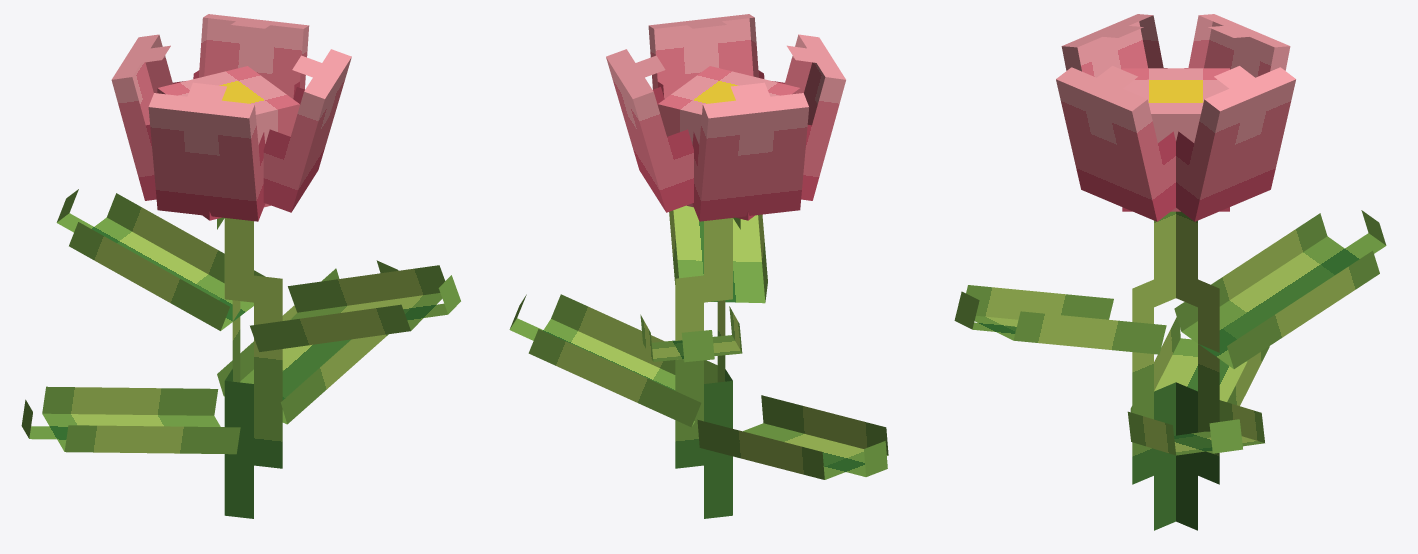
The model's file is peony-stage4.gltf.
3 renders of one model, left to right at view 1: azimuth 30°, elevation 25°; view 2: azimuth 150°, elevation 25°; view 3: azimuth 270°, elevation 25°, orthographic. The views are drawn at different scales.
Visible parts, largest first — view 1: cube; view 2: cube; view 3: cube.
Boxes of the visible parts, <box> form: cube: <box>21,14,460,518</box>; cube: <box>509,14,888,518</box>; cube: <box>954,14,1386,530</box>.
Size of the model in its own units: 0.9368 by 1.06 by 0.9478.
1 material, 1 textured.
